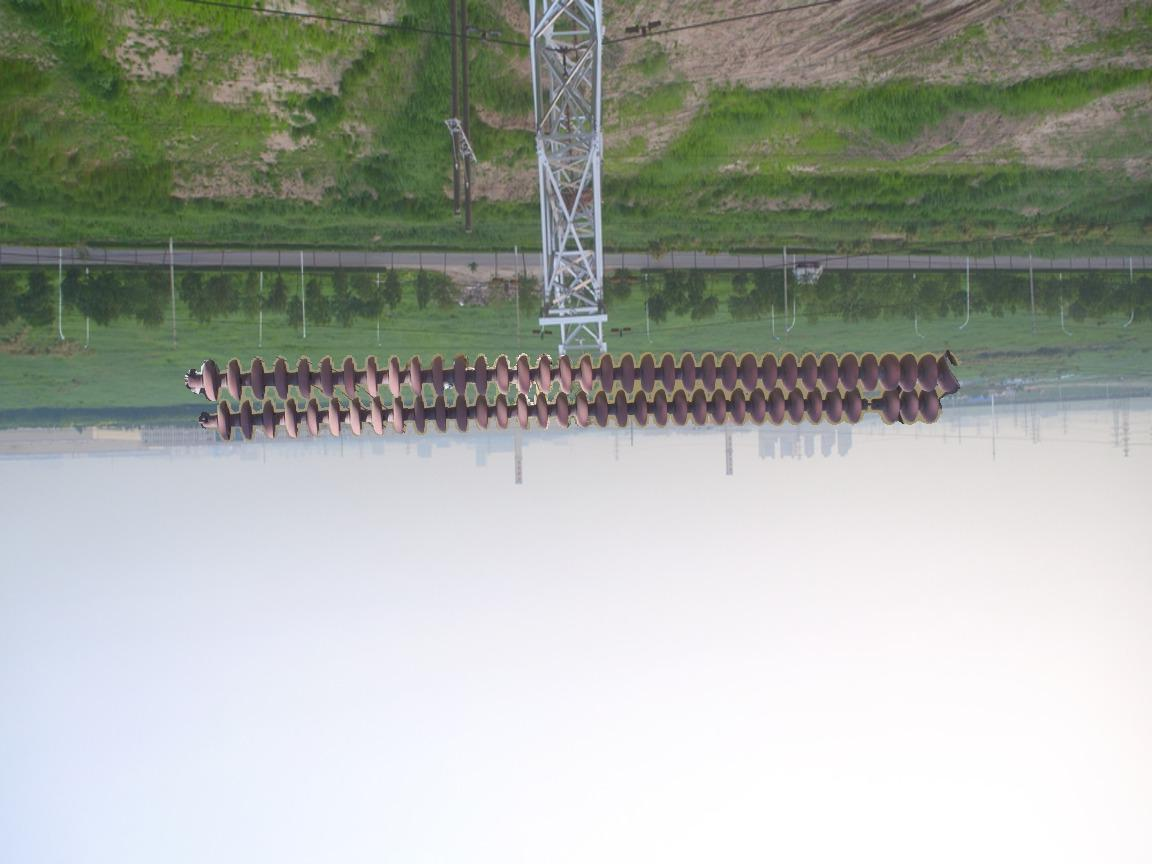insulator: (194, 342, 961, 447)
insulator_stringdrop: (842, 385, 902, 429)
